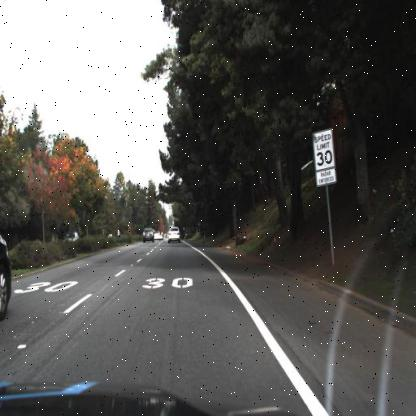car: (0, 200, 14, 334), (164, 226, 185, 249), (143, 224, 159, 246), (156, 230, 166, 244)
